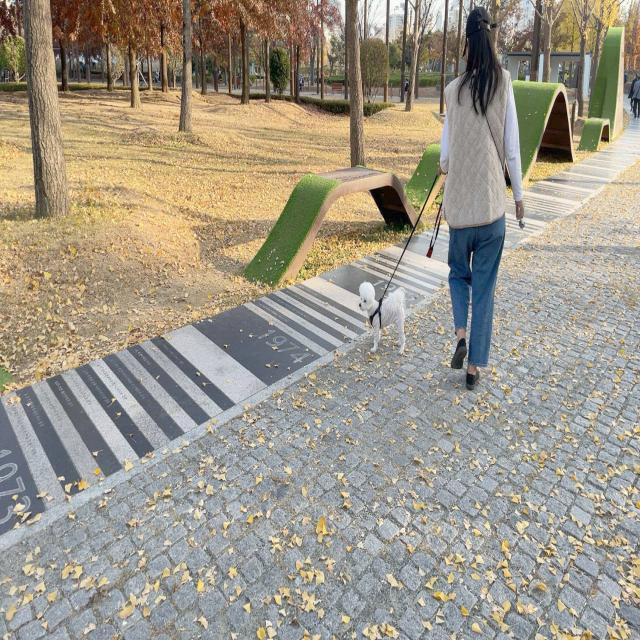Leashed_Dog: (359, 152, 457, 358)
